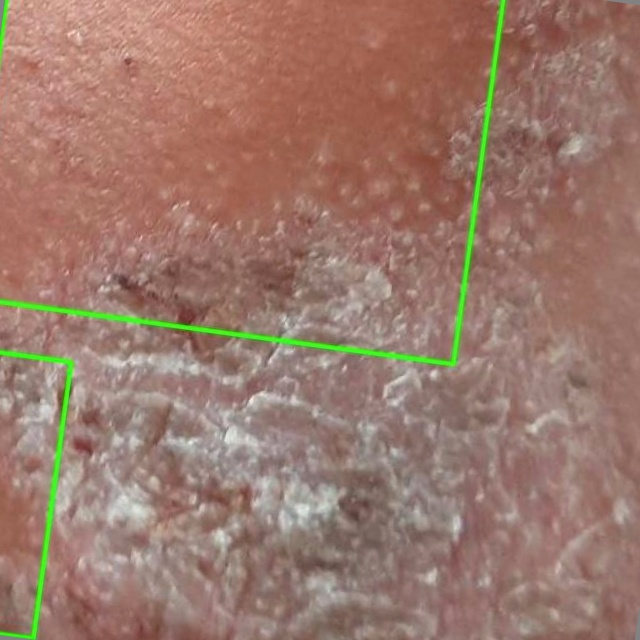Contact Dermatitis: (0, 0, 503, 364)
